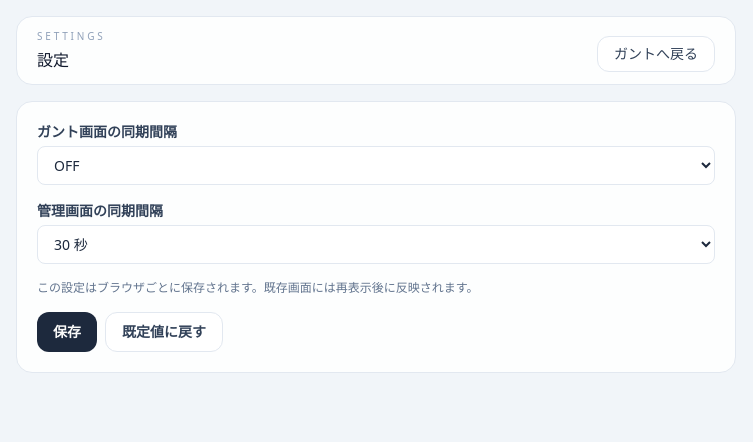
Test case: /settings/+page.svelte › should restore custom settings and reset them to defaults
Expected: the dropdown labelled "ガント画面の同期間隔" shows "OFF", [37,146,715,185]
Expected: the dropdown labelled "管理画面の同期間隔" shows "30 秒", [37,225,715,264]
Click the button "既定値に戻す".
click(164, 332)  # box [105,312,223,352]
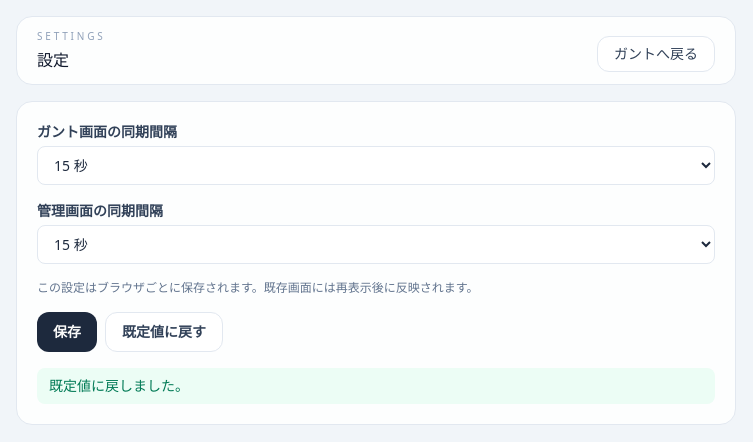
Expected: the text "既定値に戻しました。" is shown, [37,368,715,404]
